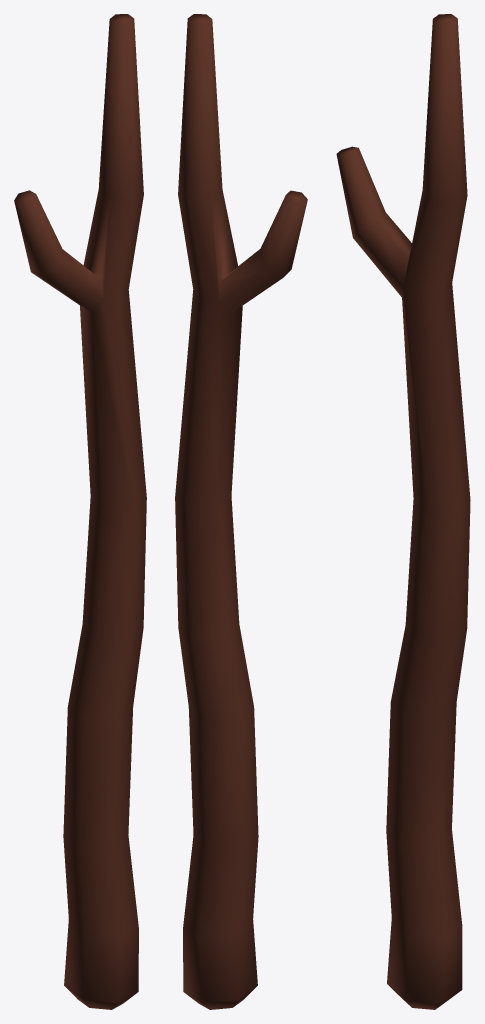
File: Stick_01.glb
3 renders of one model, left to right at view 1: azimuth 30°, elevation 25°; view 2: azimuth 150°, elevation 25°; view 3: azimuth 330°, elevation 25°, orthographic.
Parts seen in each view (by area): view 1: Stick_01; view 2: Stick_01; view 3: Stick_01.
Boxes of the visible parts, x1,y1,x2,y2 form: Stick_01: (14, 14, 146, 1009); Stick_01: (175, 14, 307, 1009); Stick_01: (336, 14, 470, 1009).
Size of the model in its own units: 0.2162 by 1.64 by 0.1138.
Materials: 1 (1 with a texture image).
